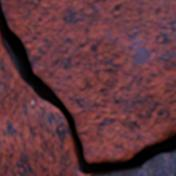broken_brick: (1, 0, 175, 162), (0, 7, 95, 175)
crack: (0, 0, 175, 174)
